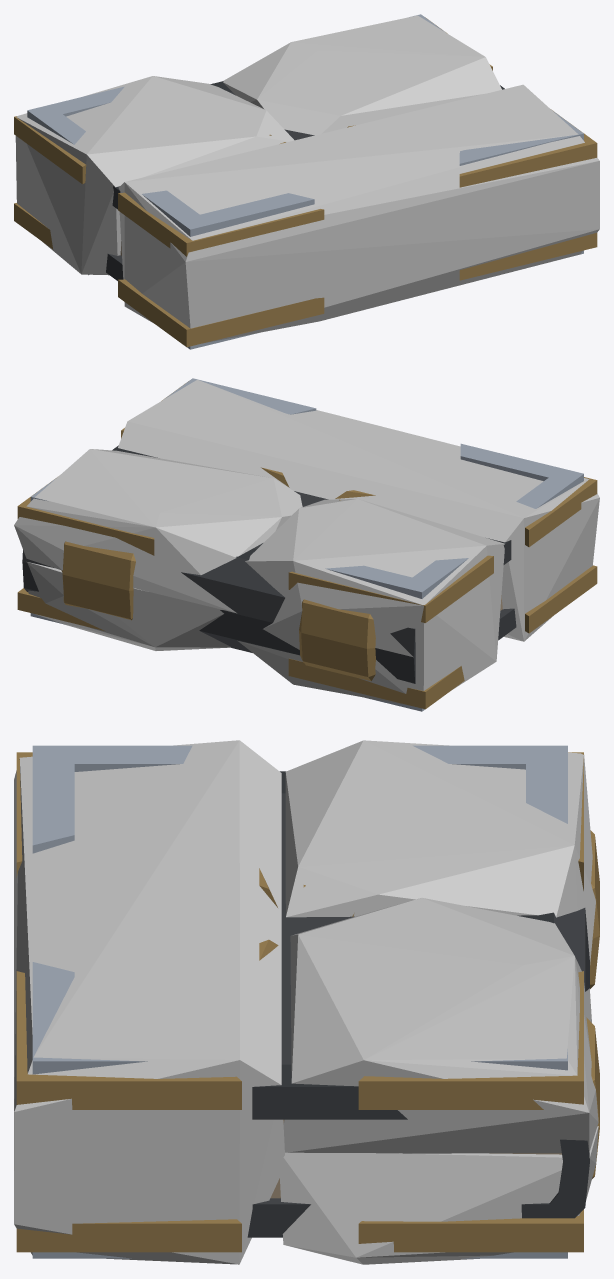
File: SM_Item_Spellbook_06.fbx
3 renders of one model, top to bottom at view 1: azimuth 30°, elevation 25°; view 2: azimuth 150°, elevation 25°; view 3: azimuth 270°, elevation 25°, orthographic. The views are drawn at different scales.
Parts seen in each view (by area): view 1: SM_Item_Spellbook_06_ConvexHulls, SM_Item_Spellbook_06; view 2: SM_Item_Spellbook_06_ConvexHulls, SM_Item_Spellbook_06; view 3: SM_Item_Spellbook_06_ConvexHulls, SM_Item_Spellbook_06.
Boxes of the visible parts, x1=… form: SM_Item_Spellbook_06_ConvexHulls: x1=15, y1=15, x2=599, y2=342; SM_Item_Spellbook_06: x1=14, y1=14, x2=597, y2=349; SM_Item_Spellbook_06_ConvexHulls: x1=14, y1=379, x2=599, y2=705; SM_Item_Spellbook_06: x1=17, y1=378, x2=597, y2=711; SM_Item_Spellbook_06_ConvexHulls: x1=14, y1=740, x2=598, y2=1264; SM_Item_Spellbook_06: x1=16, y1=745, x2=599, y2=1258.
Bounding box in the file's own units: 39.22 × 29.23 × 11.29.
2 materials, 1 textured.
